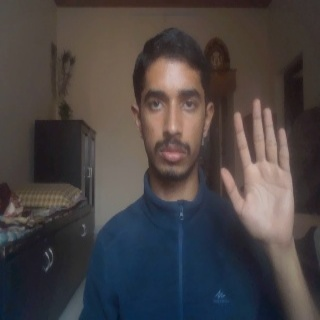Face: (128, 27, 215, 185)
Hello: (219, 97, 302, 246)
